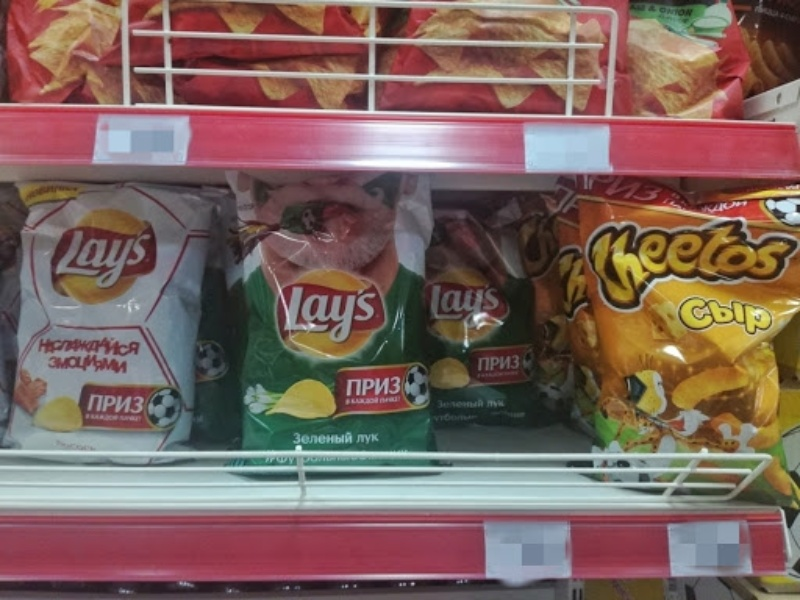chips: (574, 171, 800, 495), (219, 169, 451, 481), (2, 180, 216, 474), (425, 211, 566, 431)
